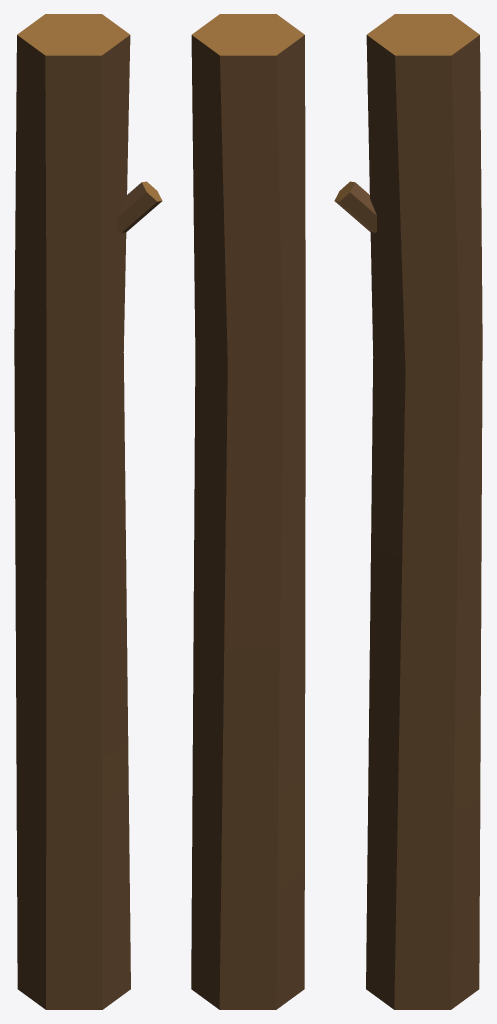
The model's file is ww2_log-post.fbx.
The picture shows the model from 3 angles, left to right: view 1: azimuth 90°, elevation 25°; view 2: azimuth 210°, elevation 25°; view 3: azimuth 270°, elevation 25°; orthographic projection.
Visible parts, largest first — view 1: ww2_log_post; view 2: ww2_log_post; view 3: ww2_log_post.
Part boxes in pixels (left/top/right/bottom): ww2_log_post: left=14, top=14, right=162, bottom=1009; ww2_log_post: left=191, top=14, right=305, bottom=1009; ww2_log_post: left=334, top=14, right=482, bottom=1009.
Bounding box in the file's own units: 19.3 × 200 × 28.15.
